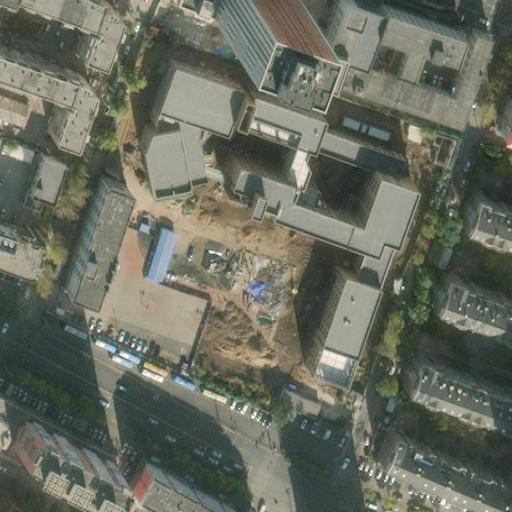building: (214, 144, 401, 236), (228, 79, 390, 154), (389, 335, 512, 412), (370, 422, 495, 493), (144, 42, 238, 120), (59, 168, 120, 282), (121, 451, 235, 512), (422, 256, 512, 320), (128, 104, 192, 186), (314, 273, 375, 357), (450, 175, 512, 229), (44, 70, 90, 138), (302, 344, 353, 390), (75, 0, 116, 54), (142, 223, 179, 282), (17, 137, 59, 188), (0, 211, 38, 261), (276, 381, 325, 416), (424, 127, 457, 166), (492, 72, 512, 135), (348, 254, 383, 286)
